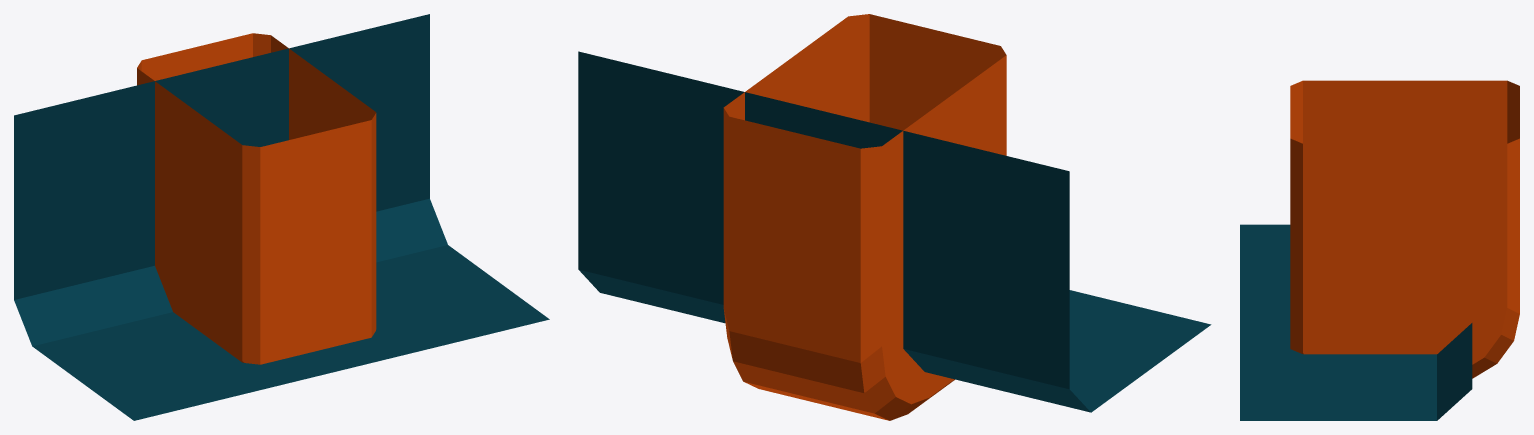
File: MB_Straight_Pillar_Bottom.fbx
3 renders of one model, left to right at view 1: azimuth 30°, elevation 25°; view 2: azimuth 150°, elevation 25°; view 3: azimuth 270°, elevation 25°, orthographic. The views are drawn at different scales.
Parts seen in each view (by area): view 1: MB_Pillar_Bottom; view 2: MB_Pillar_Bottom; view 3: MB_Pillar_Bottom.
Boxes of the visible parts, box(x1,y1,x2,y2) form: MB_Pillar_Bottom: box(14, 14, 549, 420); MB_Pillar_Bottom: box(578, 14, 1211, 420); MB_Pillar_Bottom: box(1240, 80, 1519, 420).
Bounding box in the file's own units: 400 × 234 × 241.
